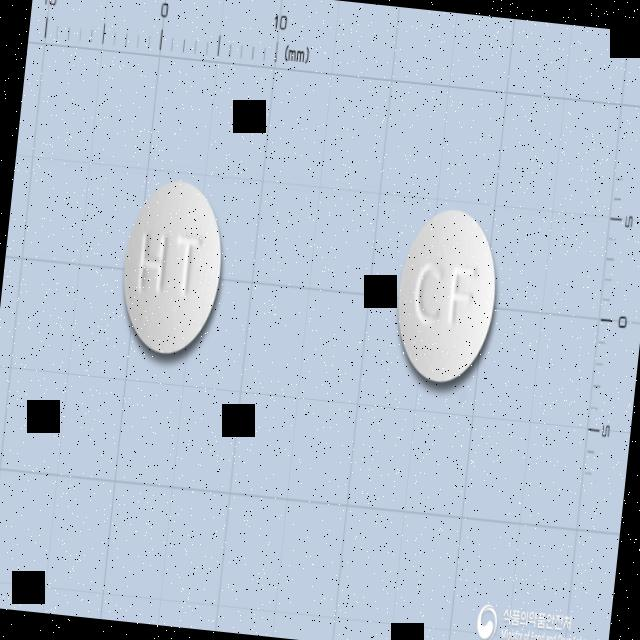Craproxin: (388, 202, 504, 386), (114, 174, 229, 358)
